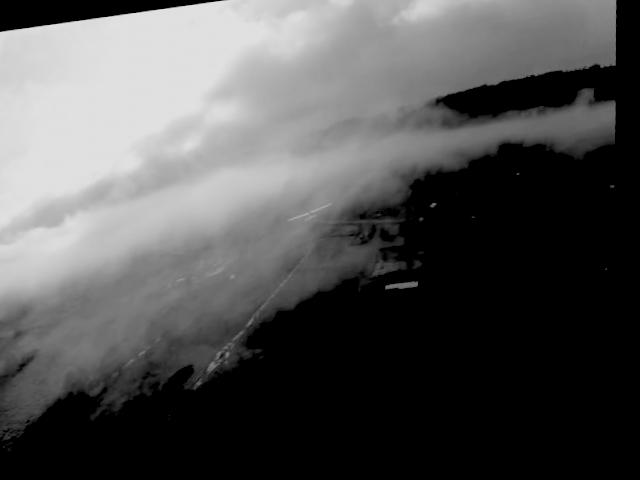hedef: (284, 195, 349, 234)
